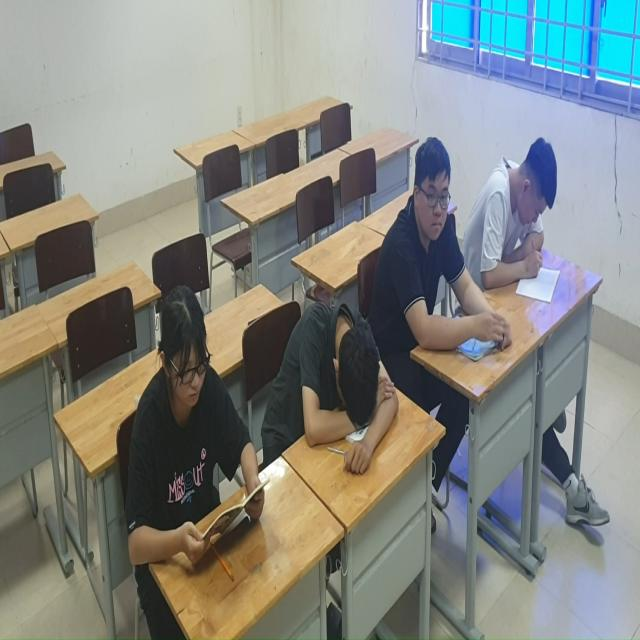read: (121, 272, 294, 640), (375, 85, 523, 371), (444, 104, 575, 348)
sleep: (267, 268, 410, 519)
